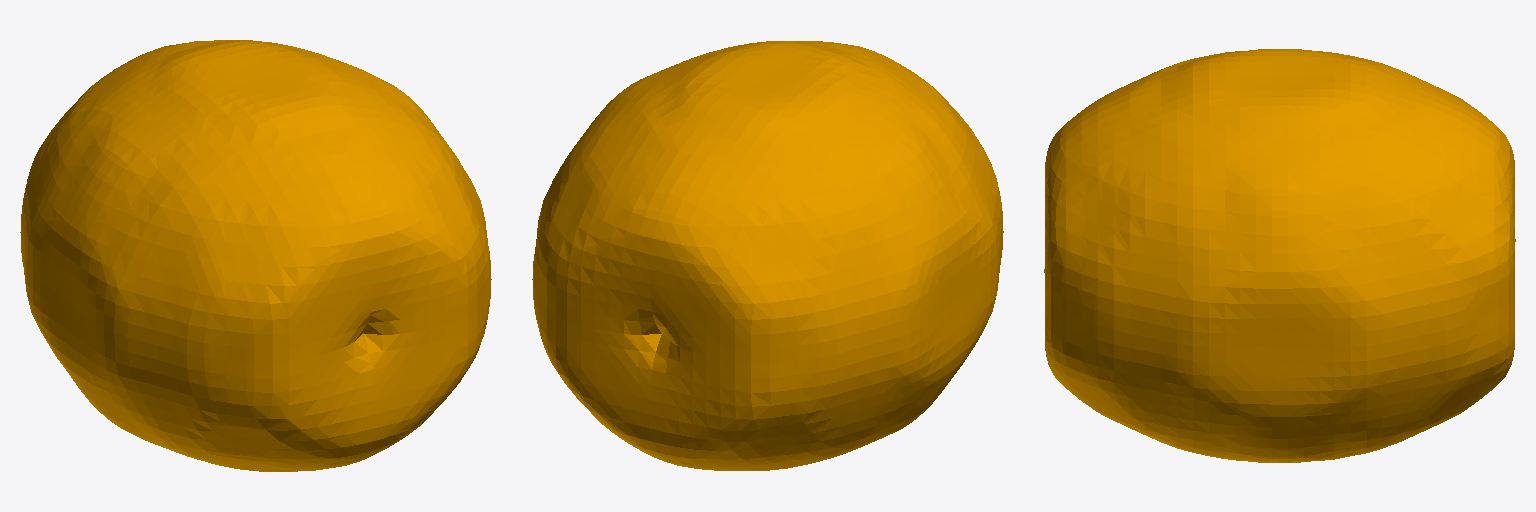
The robot description file, URDF, robot "A0":
<robot name="A0">
    <link name="base">
        <inertial>
            <origin xyz="-0.0 -0.0 -0.0" />
            <mass value="0.3227" />
            <inertia ixx="0.000012" ixy="0.000006"
                     ixz="0.000006" iyy="0.000012"
                     iyz="0.000006" izz="0.000012" />
        </inertial>
        <visual>
            <origin xyz="0 0 0" />
            <geometry>
                <mesh filename="A0_visual.obj" />
            </geometry>
        </visual>
        <collision>
            <origin xyz="0 0 0" />
            <geometry>
                <mesh filename="A0_collision.obj" />
            </geometry>
        </collision>
    </link>
</robot>

--- Render facts (derived) ---
Views: 3 orthographic renders of the robot side by side, from view 1: azimuth 30°, elevation 25°; view 2: azimuth 150°, elevation 25°; view 3: azimuth 270°, elevation 25°.
Robot: A0 — 1 links, 0 joints (none); root link base; default pose: all joints at 0.
Links seen in each view (by area): view 1: base; view 2: base; view 3: base.
Link boxes in pixels (x1=…): base: x1=20, y1=40, x2=491, y2=471; base: x1=532, y1=41, x2=1003, y2=470; base: x1=1044, y1=49, x2=1515, y2=462.
Size in the robot's own frame: 0.9221 by 1 by 0.8453 metres.
1 mesh visuals loaded from 1 distinct referenced files (1 OBJ).